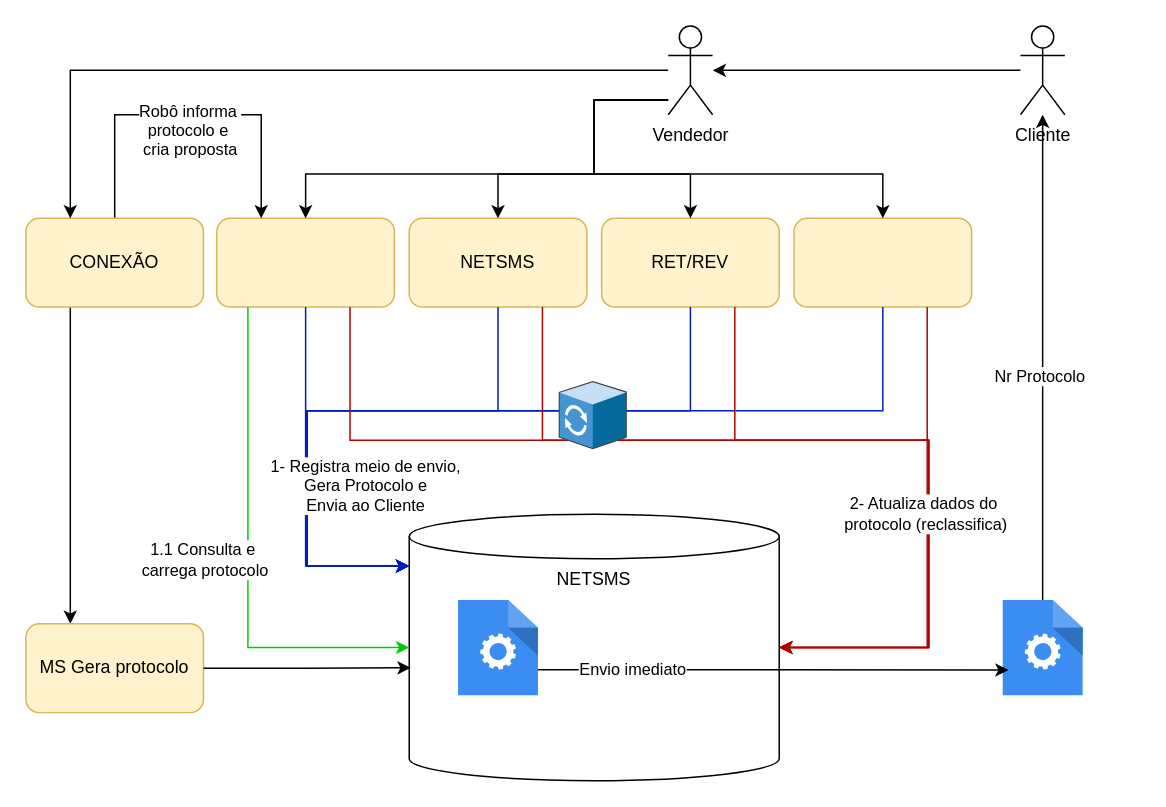
Image size: 1166x807. Some labels were removed from this diagram. Here are the shapes that lost their labels. From the top down, the centre of each, then its label:
At point (304, 262): "NETSALES".
At point (882, 262): "NETCOLETIVOS".
At point (497, 646): "Protocolo Início Jornada".
At point (1042, 646): "RTDM - Envia Protocolo Início Jornada".
